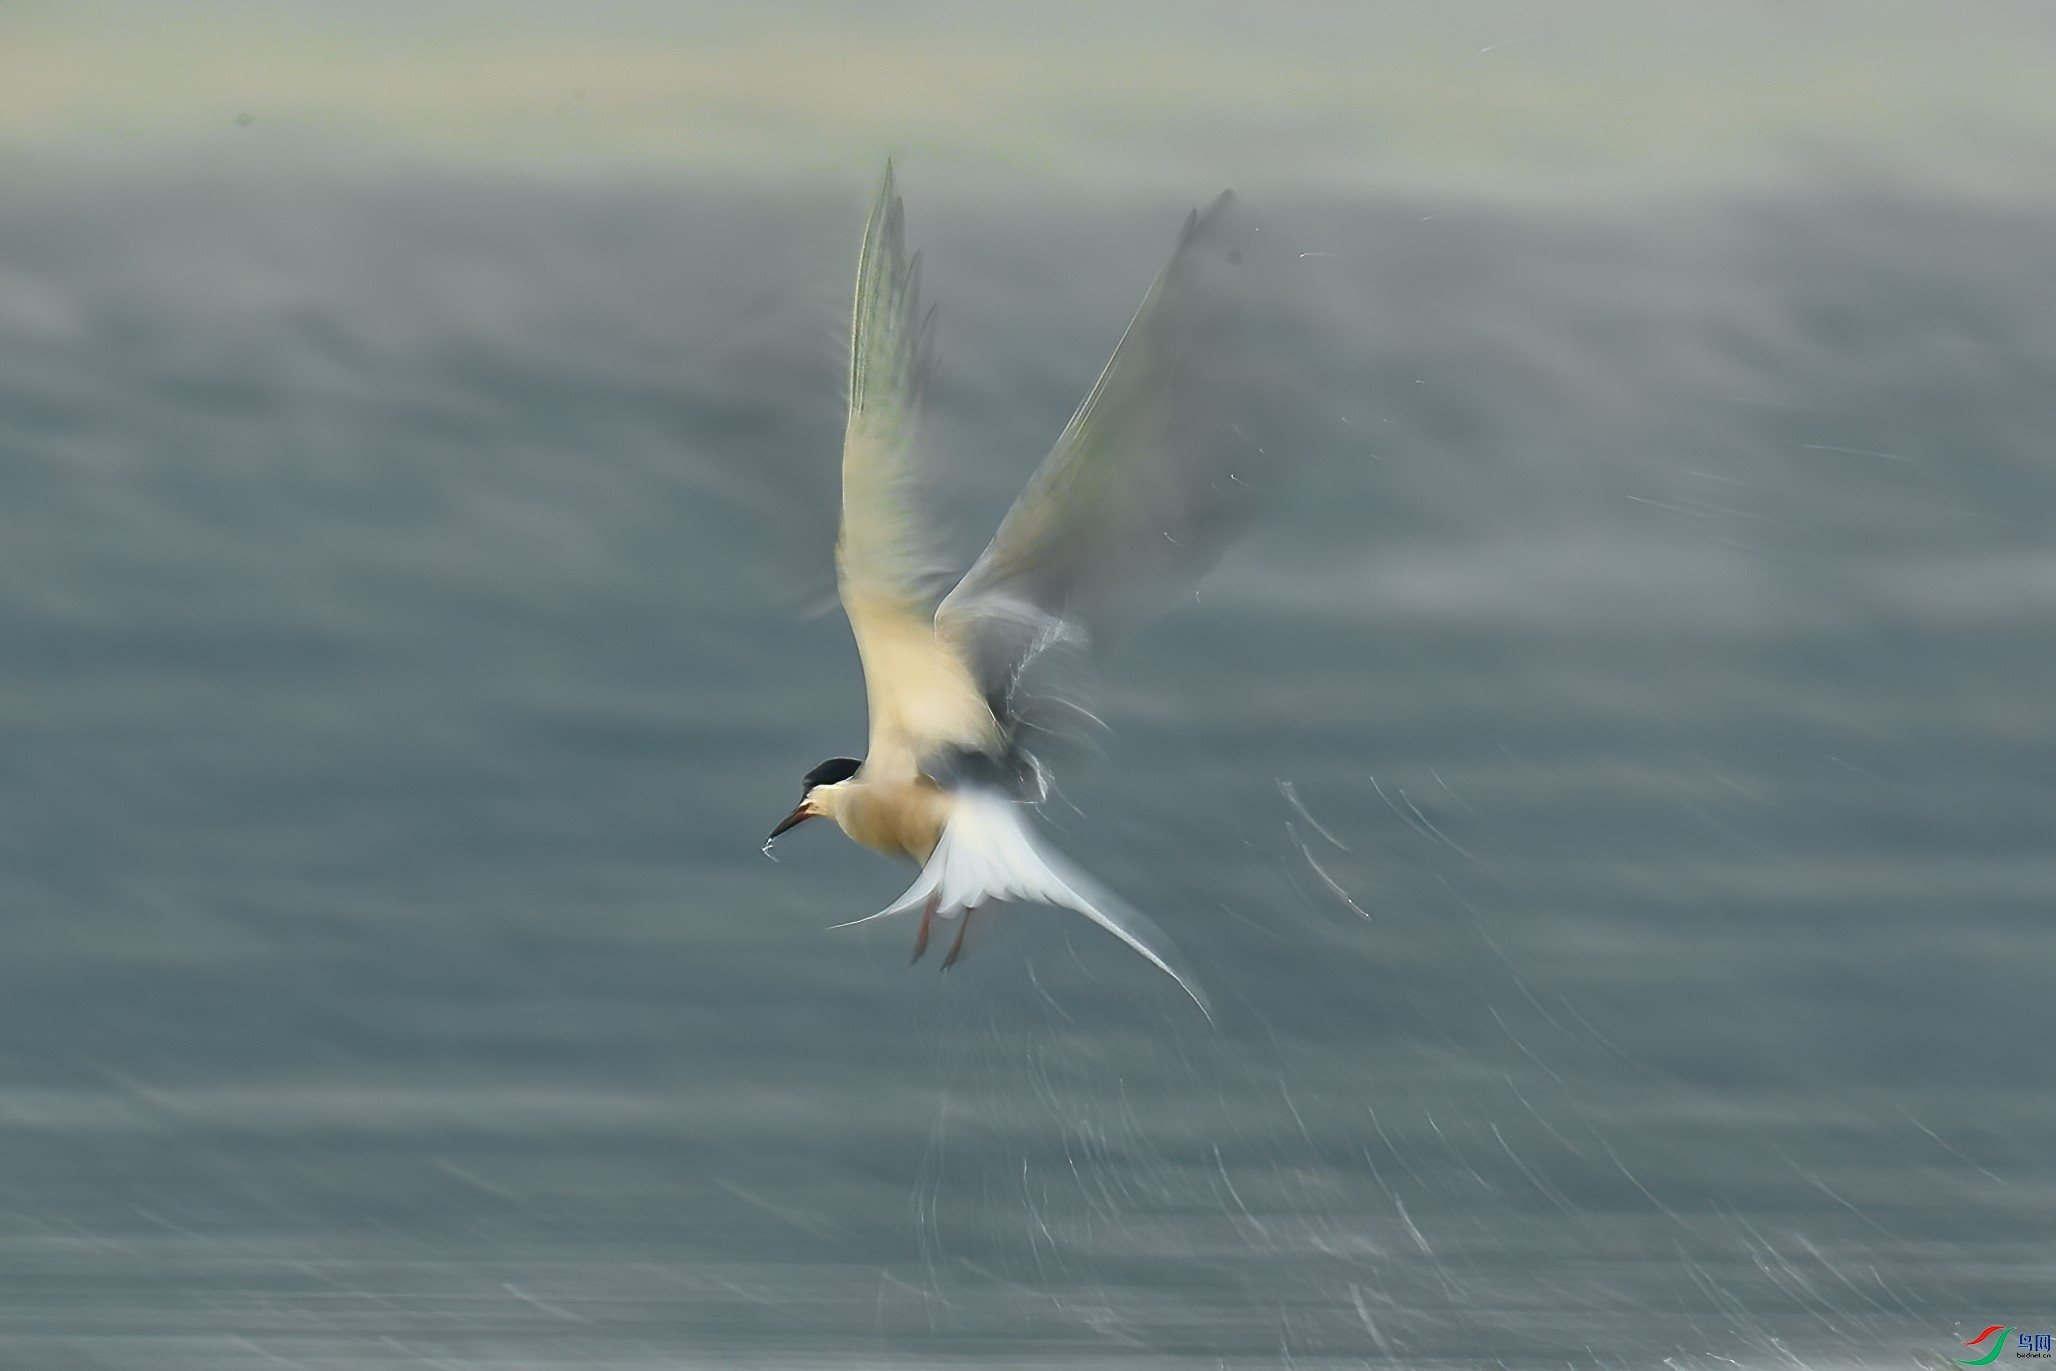bird: (704, 181, 1328, 976)
